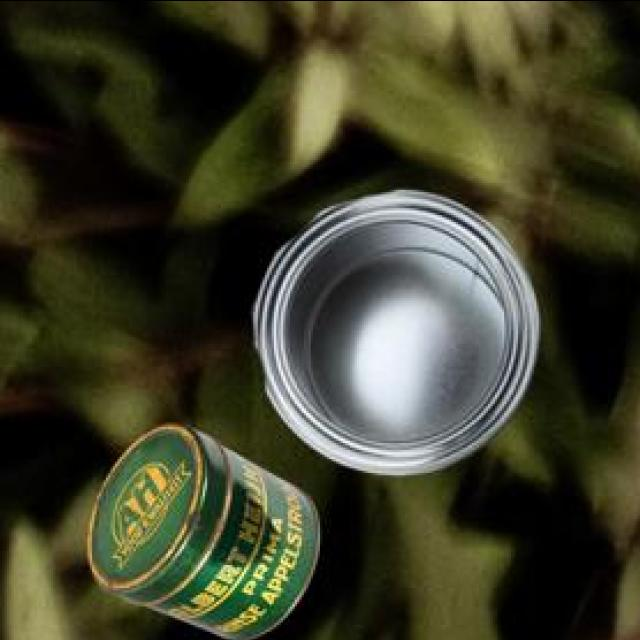logam: (257, 185, 542, 471), (91, 420, 323, 637)
